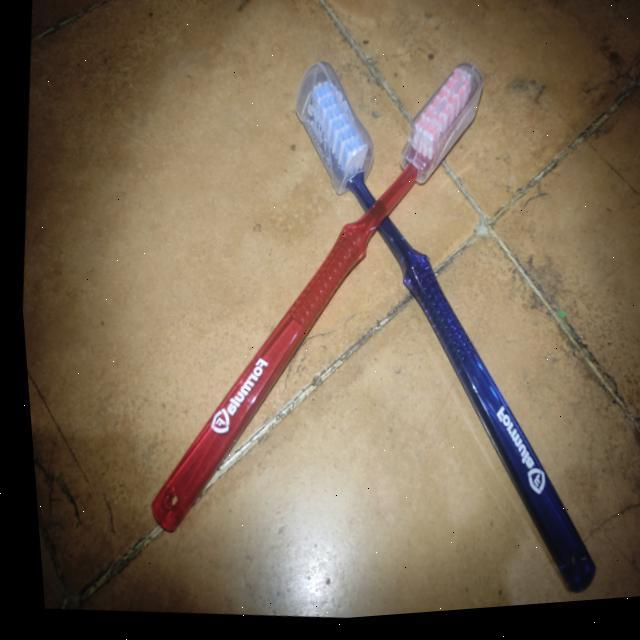toothbrush: (122, 46, 500, 572), (261, 57, 594, 610)
